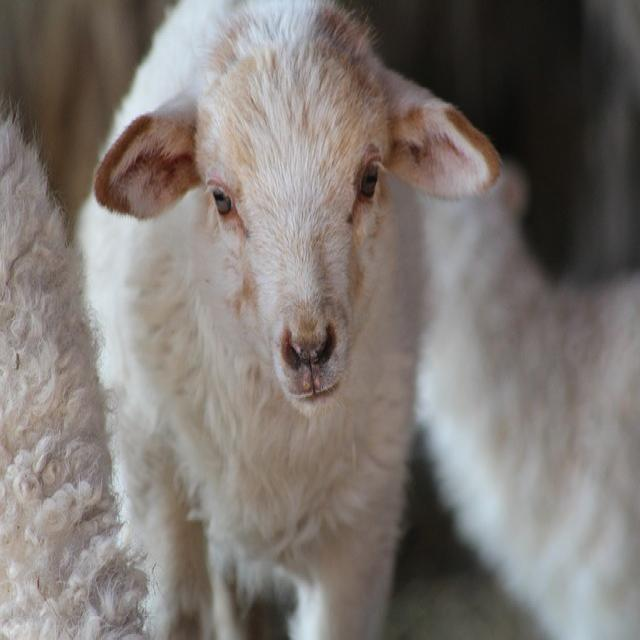goat: (76, 0, 502, 640)
